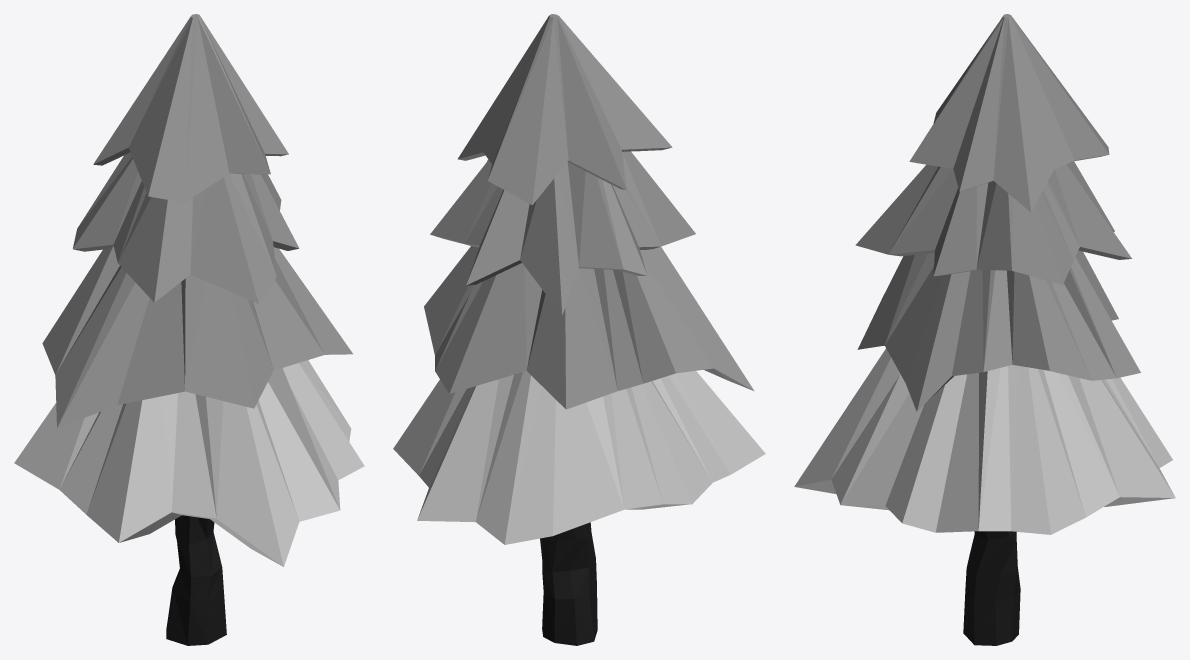
The model's file is SM_Tree_3.FBX.
3 views of the same model, side by side, from view 1: azimuth 30°, elevation 25°; view 2: azimuth 150°, elevation 25°; view 3: azimuth 270°, elevation 25° (orthographic).
Parts seen in each view (by area): view 1: Tree; view 2: Tree; view 3: Tree.
Part boxes in pixels (bbox=[...]): Tree: bbox=[14, 14, 364, 645]; Tree: bbox=[393, 14, 765, 645]; Tree: bbox=[794, 14, 1175, 645].
Size of the model in its own units: 78.96 by 149 by 82.79.
